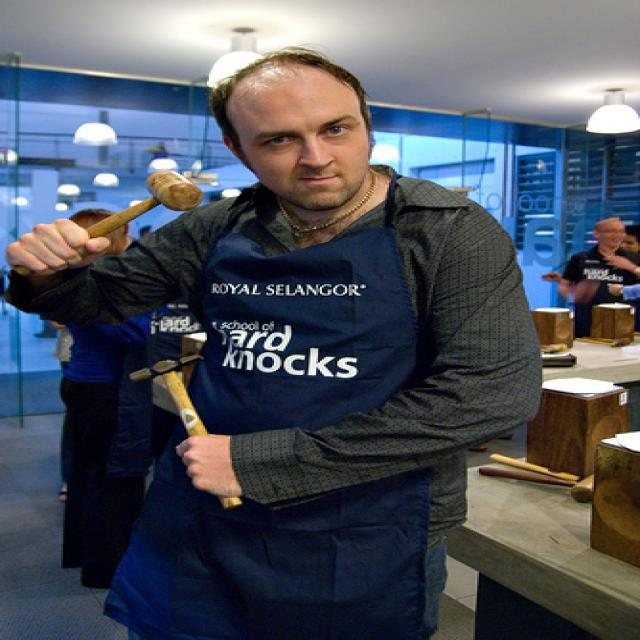hammer: (127, 351, 258, 514), (14, 167, 208, 272)
